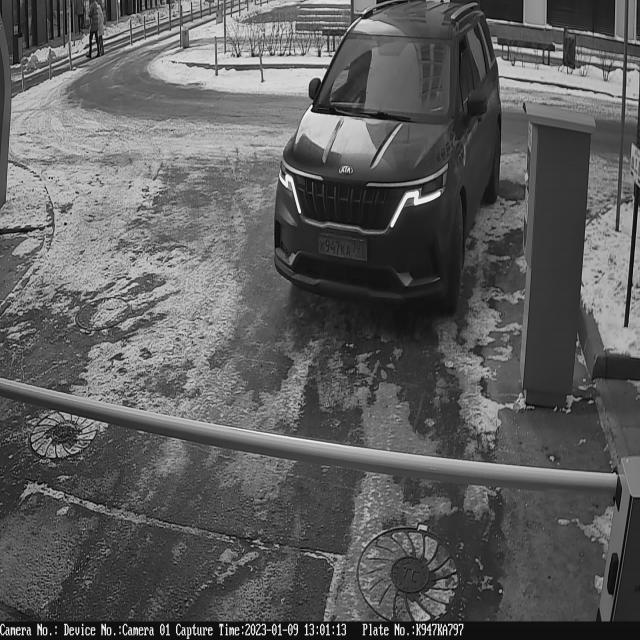car-plate-numbers: (316, 227, 373, 265)
